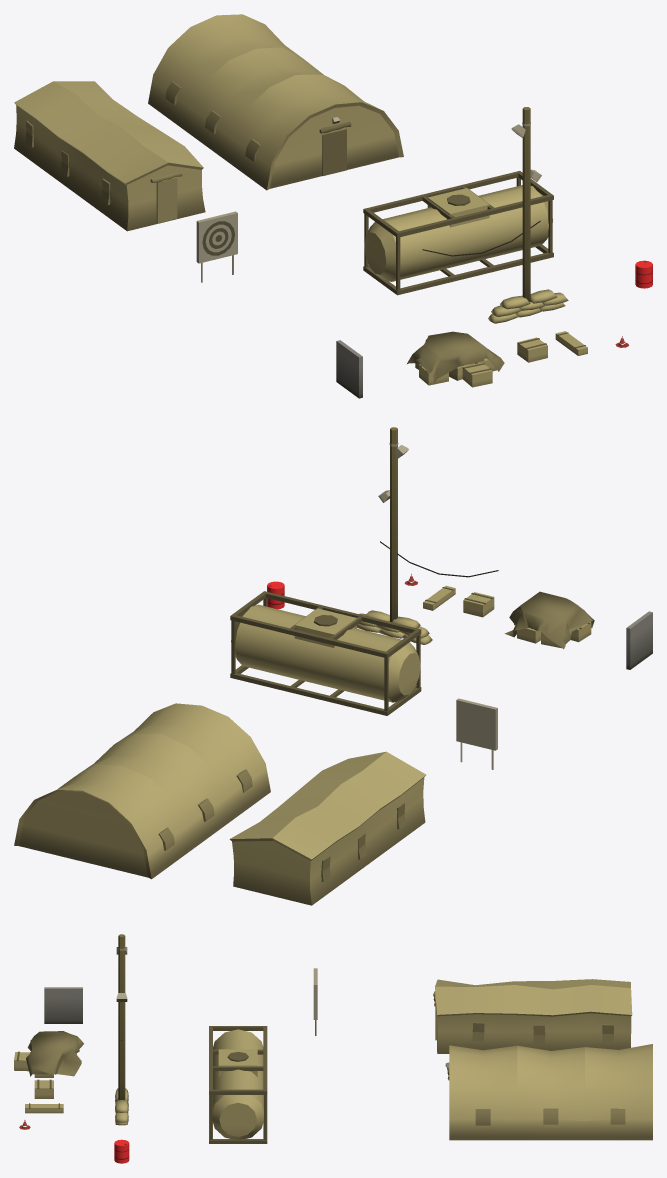
File: Military Base Props.fbx
3 renders of one model, top to bottom at view 1: azimuth 30°, elevation 25°; view 2: azimuth 150°, elevation 25°; view 3: azimuth 270°, elevation 25°, orthographic. The views are drawn at different scales.
Visible parts, largest first — view 1: Tent 02, Tent 01, Fuel Tank, Boxes, Post, Shoot Target, Sand Bag, Wall, Box 01; view 2: Tent 02, Tent 01, Fuel Tank, Boxes, Shoot Target, Post, Wall, Sand Bag; view 3: Tent 02, Tent 01, Fuel Tank, Boxes, Wall, Post, Sand Bag, Box 02, Box 01, Smal Tank.
Part boxes in pixels (<box>): Tent 02: <box>148,14,403,190</box>; Tent 01: <box>14,81,205,231</box>; Fuel Tank: <box>363,171,553,295</box>; Boxes: <box>407,331,504,387</box>; Post: <box>511,107,541,302</box>; Shoot Target: <box>196,211,237,282</box>; Sand Bag: <box>488,289,568,323</box>; Wall: <box>336,340,362,398</box>; Box 01: <box>517,337,547,362</box>; Tent 02: <box>14,703,270,879</box>; Tent 01: <box>229,751,426,905</box>; Fuel Tank: <box>230,591,421,715</box>; Boxes: <box>504,591,594,649</box>; Shoot Target: <box>456,698,497,769</box>; Post: <box>378,427,408,621</box>; Wall: <box>626,611,652,669</box>; Sand Bag: <box>357,610,432,644</box>; Tent 02: <box>445,1044,652,1140</box>; Tent 01: <box>433,979,632,1053</box>; Fuel Tank: <box>209,1026,267,1143</box>; Boxes: <box>14,1031,83,1077</box>; Wall: <box>44,987,82,1023</box>; Post: <box>116,934,127,1100</box>; Sand Bag: <box>115,1088,128,1125</box>; Box 02: <box>25,1103,63,1113</box>; Box 01: <box>34,1079,53,1098</box>; Smal Tank: <box>114,1139,129,1163</box>.
Bounding box in the file's own units: 1747 × 1003 × 3296.
